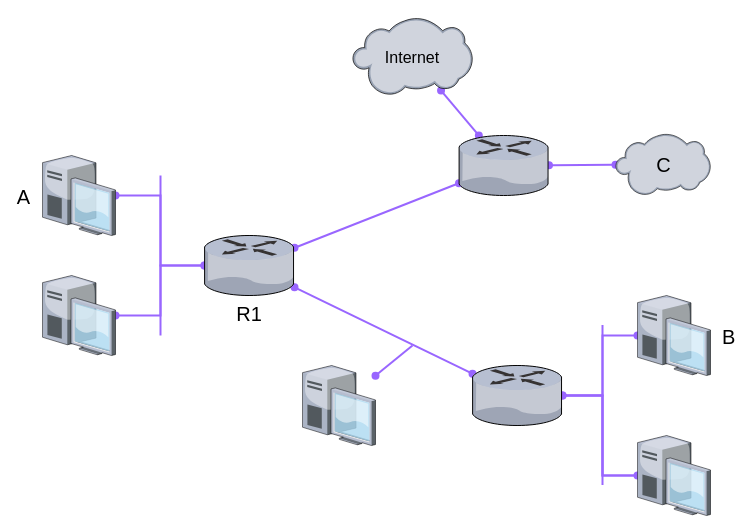
Some shapes in this 753 by 532 pixel diagram are drawn without their labels. The box of each missing label's shape, as (x1, y1, x2, y2) in pixels:
R2: (472, 365, 562, 425)
R3: (458, 135, 548, 195)
